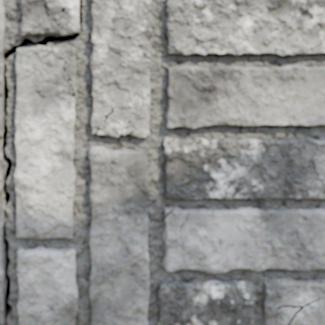brick: (14, 49, 74, 239), (88, 146, 148, 324), (163, 207, 324, 272), (163, 138, 324, 199), (166, 65, 324, 127), (164, 0, 324, 54), (90, 0, 152, 136), (18, 248, 77, 324), (158, 280, 255, 324), (262, 278, 324, 324), (21, 0, 78, 34), (55, 46, 75, 87), (291, 300, 324, 324), (0, 152, 4, 324), (0, 0, 4, 135)
crack: (0, 0, 82, 324), (276, 296, 324, 324), (92, 107, 114, 135), (312, 160, 324, 199), (119, 116, 134, 137), (164, 209, 171, 218)
